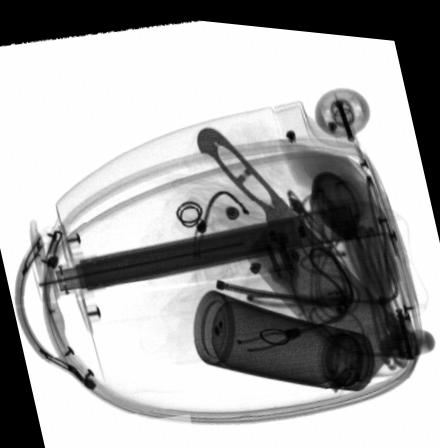Knife: (196, 122, 409, 375)
